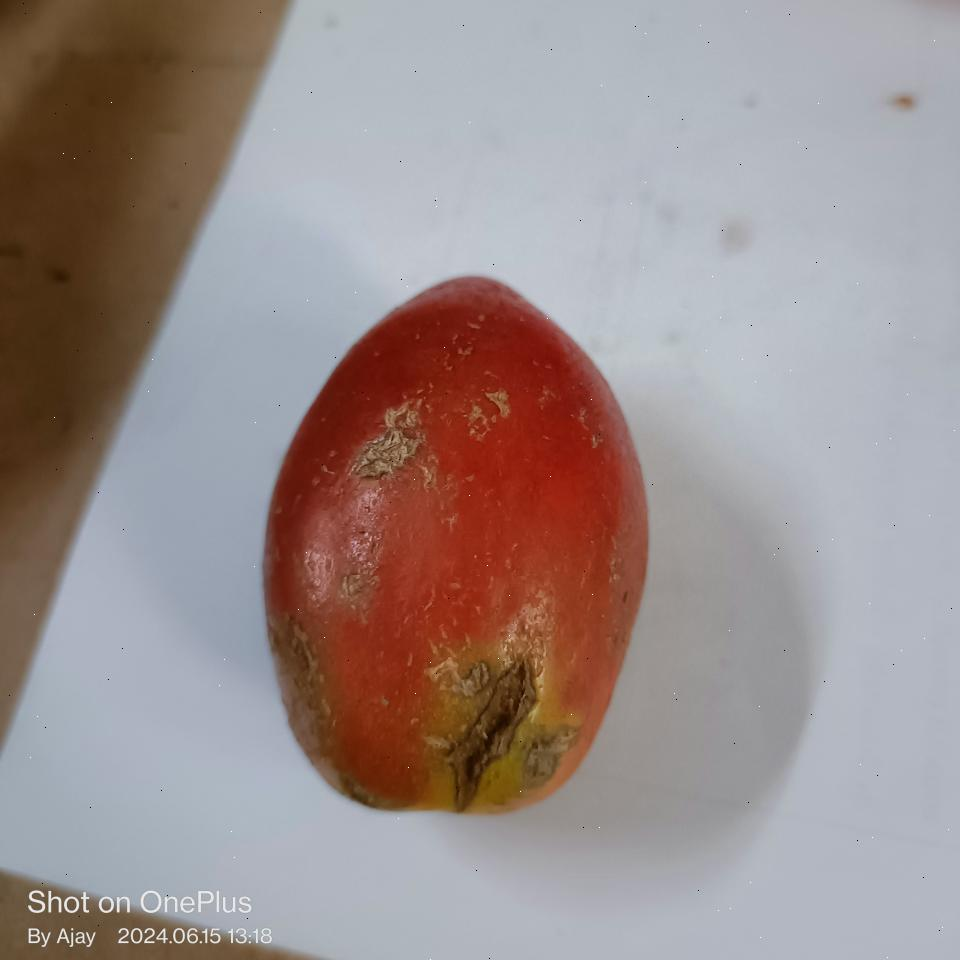Bacterial_Spot: (440, 659, 534, 807), (352, 386, 426, 491)
